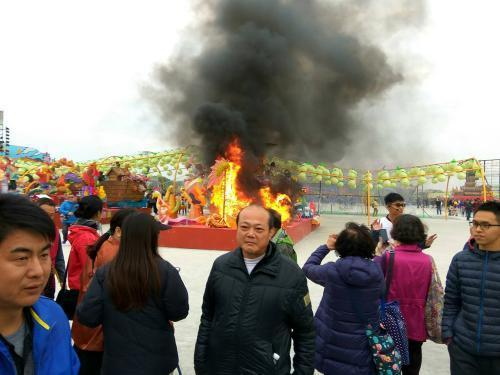fire: (198, 134, 248, 224), (257, 181, 289, 219)
